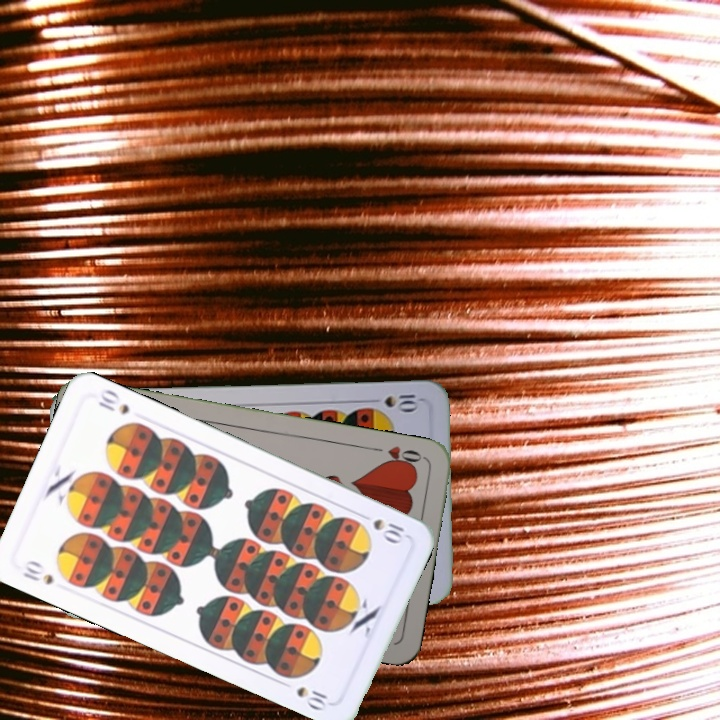HO: (368, 442, 427, 471)
S10: (354, 508, 411, 546), (364, 390, 423, 412), (18, 556, 56, 588)
